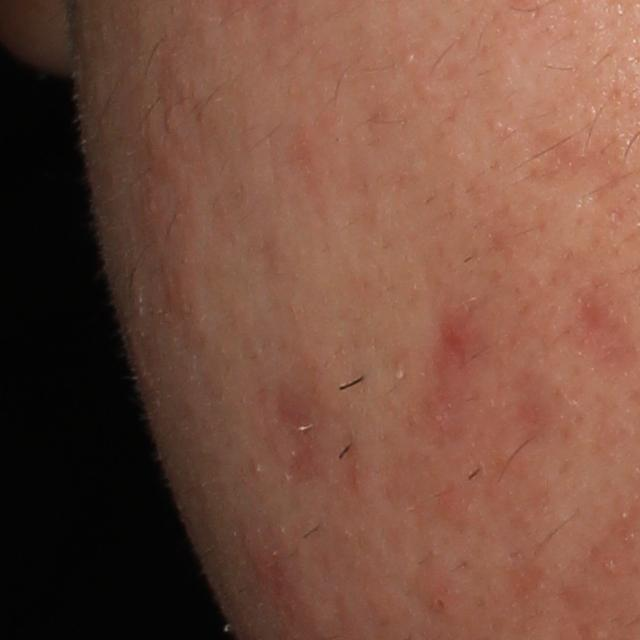atrophic_scar: (518, 127, 638, 194), (262, 377, 328, 486)
